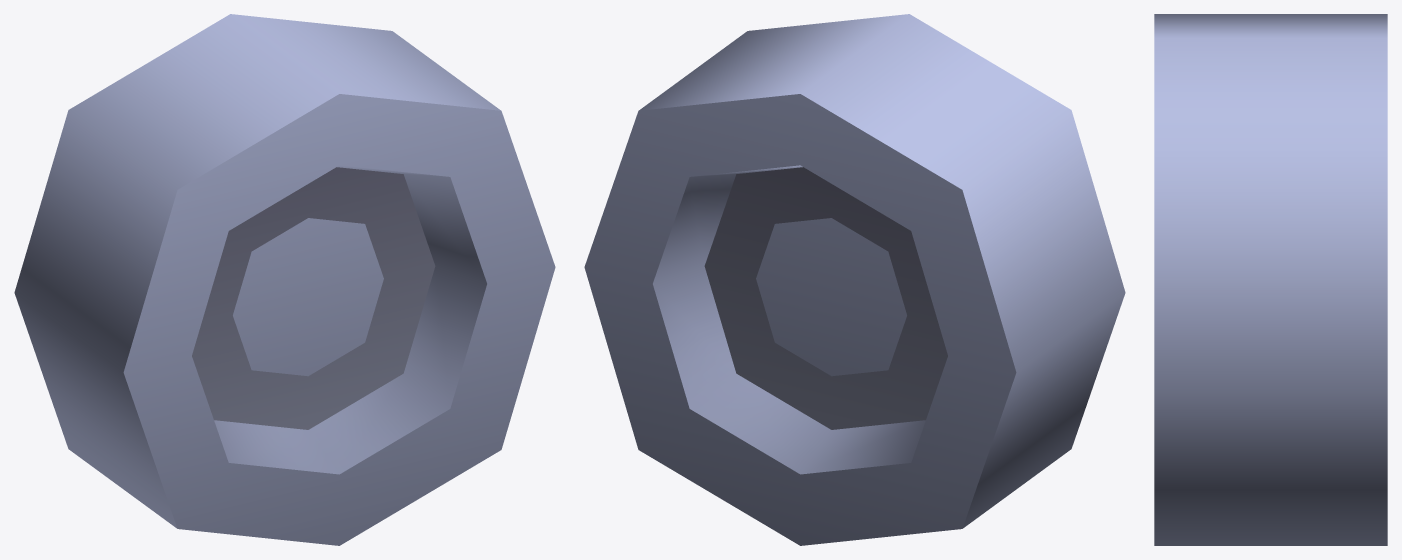
The model's file is coin-silver.glb.
3 views of the same model, side by side, from view 1: azimuth 30°, elevation 25°; view 2: azimuth 150°, elevation 25°; view 3: azimuth 270°, elevation 25° (orthographic). The views are drawn at different scales.
Visible parts, largest first — view 1: coin-silver; view 2: coin-silver; view 3: coin-silver.
Part boxes in pixels (x1,y1,x2,y2): coin-silver: (14,14,555,545); coin-silver: (584,14,1125,545); coin-silver: (1154,14,1387,545).
Size of the model in its own units: 0.4 by 0.4 by 0.175.
1 material, 1 textured.
